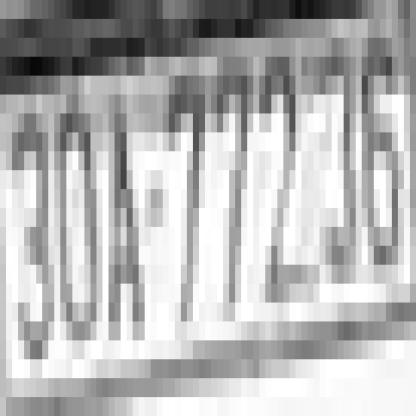0: (60, 113, 102, 340)
3: (12, 113, 54, 340)
6: (356, 38, 398, 246)
7: (169, 94, 205, 284)
A: (108, 95, 144, 322)
